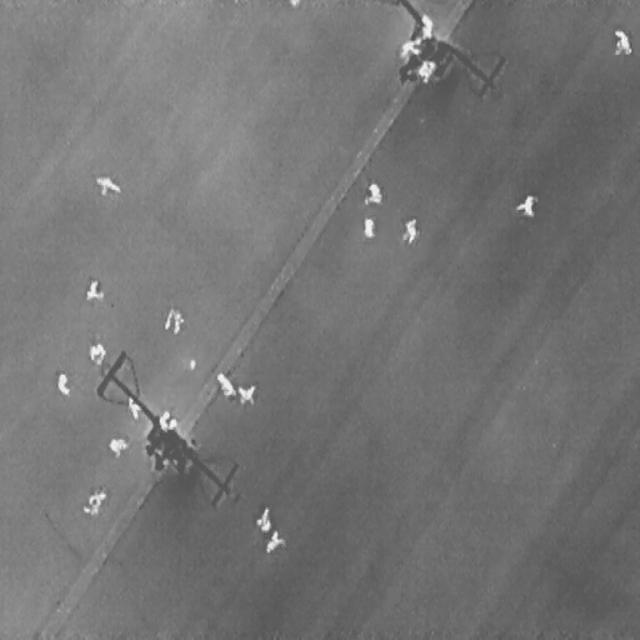Person: (212, 366, 237, 399), (395, 34, 422, 61), (613, 23, 632, 58), (414, 55, 436, 84), (81, 490, 107, 514), (164, 302, 182, 334), (514, 192, 536, 218), (93, 174, 119, 195), (255, 503, 271, 532), (158, 408, 177, 432), (265, 528, 283, 552), (402, 217, 417, 245), (107, 435, 128, 455), (84, 278, 104, 298), (88, 341, 105, 364), (125, 396, 141, 420), (55, 370, 69, 396), (237, 382, 254, 403), (420, 11, 432, 39), (365, 182, 381, 202), (362, 216, 374, 236)
